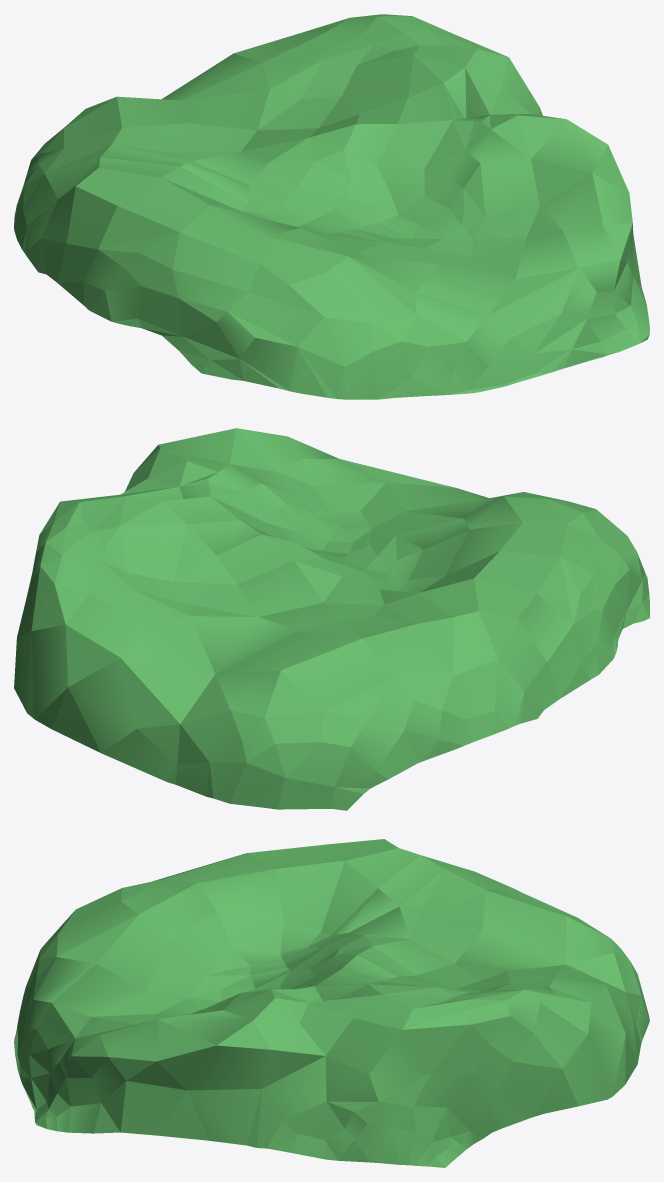
Rendered from landscape_004.glb.
3 renders of one model, top to bottom at view 1: azimuth 30°, elevation 25°; view 2: azimuth 150°, elevation 25°; view 3: azimuth 270°, elevation 25°, orthographic. The views are drawn at different scales.
Parts seen in each view (by area): view 1: landscape_004; view 2: landscape_004; view 3: landscape_004.
Part boxes in pixels (left/top/right/bottom): landscape_004: left=14, top=14, right=649, bottom=399; landscape_004: left=14, top=428, right=649, bottom=810; landscape_004: left=14, top=839, right=649, bottom=1167.
Bounding box in the file's own units: 22.26 × 6.23 × 25.44.
Materials: 1 (1 with a texture image).
